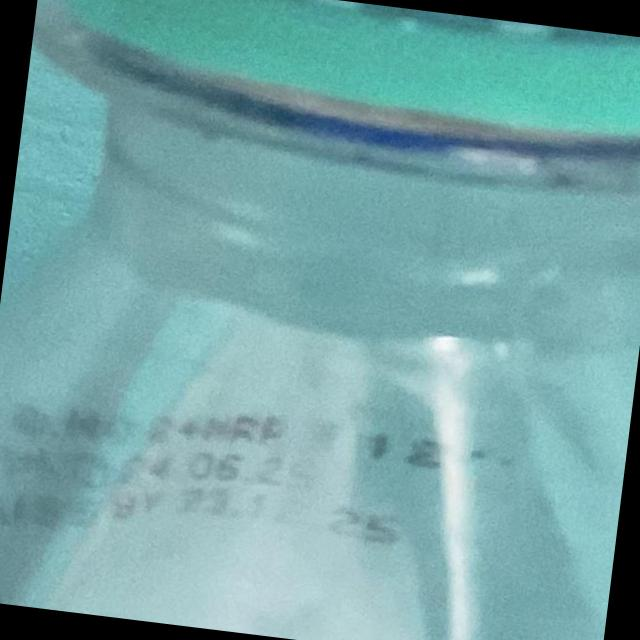Good-cap-Df0S: (25, 0, 640, 174)
